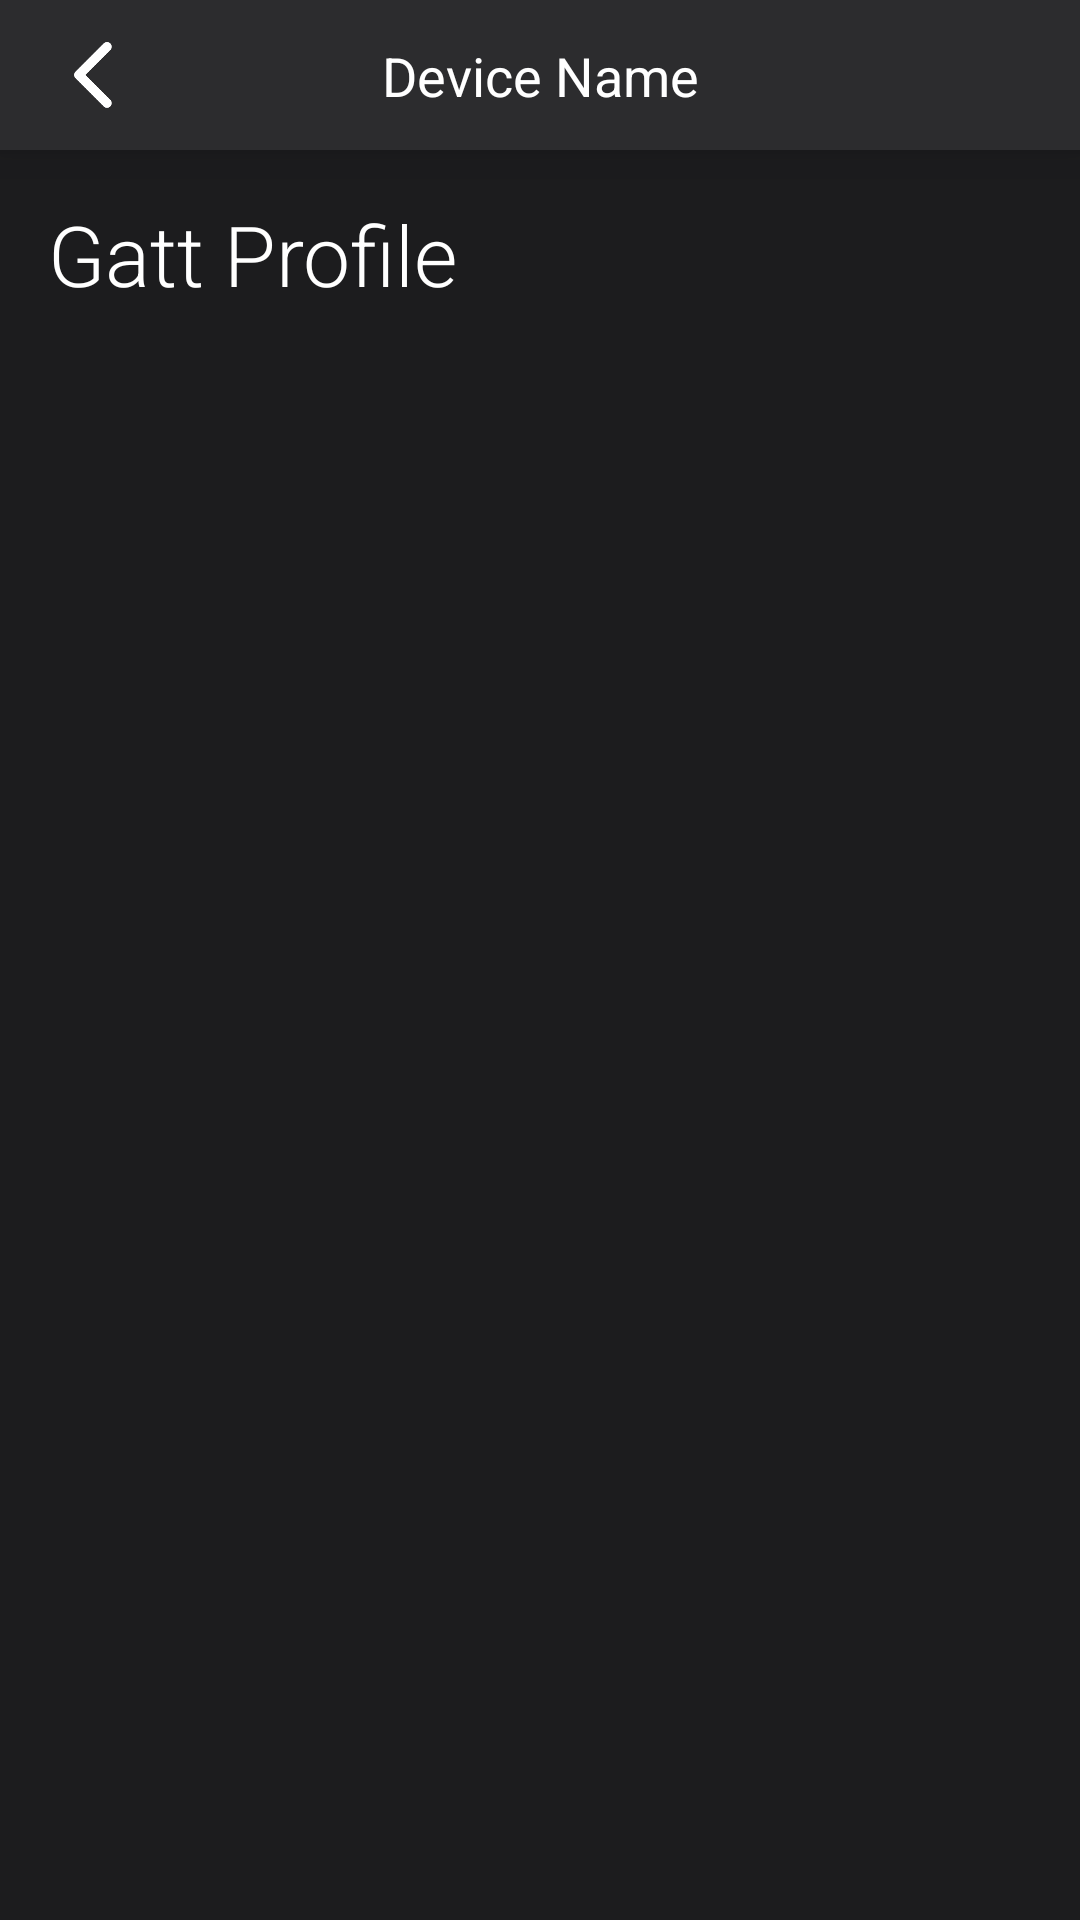

Screen size 1080×1920. Icon name, then its box in pixels as (x1, y1, x2, y2):
back: (74, 42, 112, 108)
